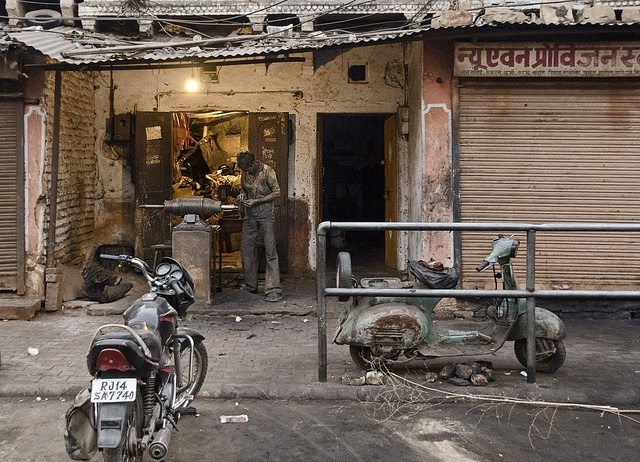non-vehicle: (331, 234, 570, 371), (86, 251, 215, 455)
